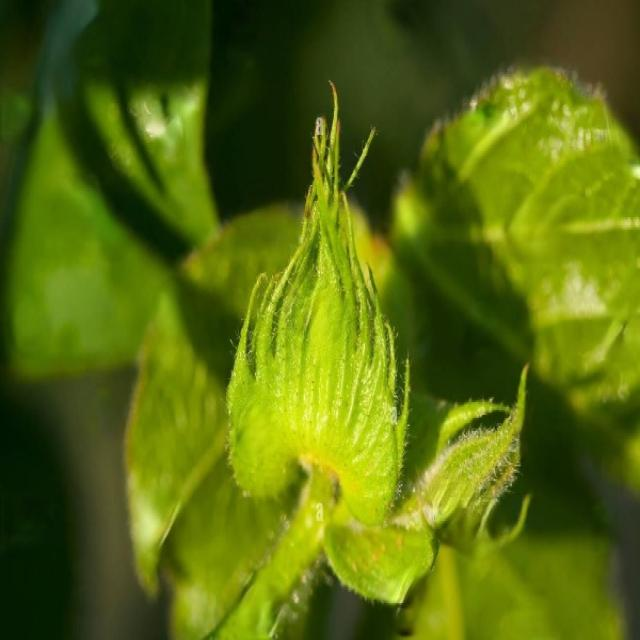Cotton Bud: (232, 181, 419, 535)
